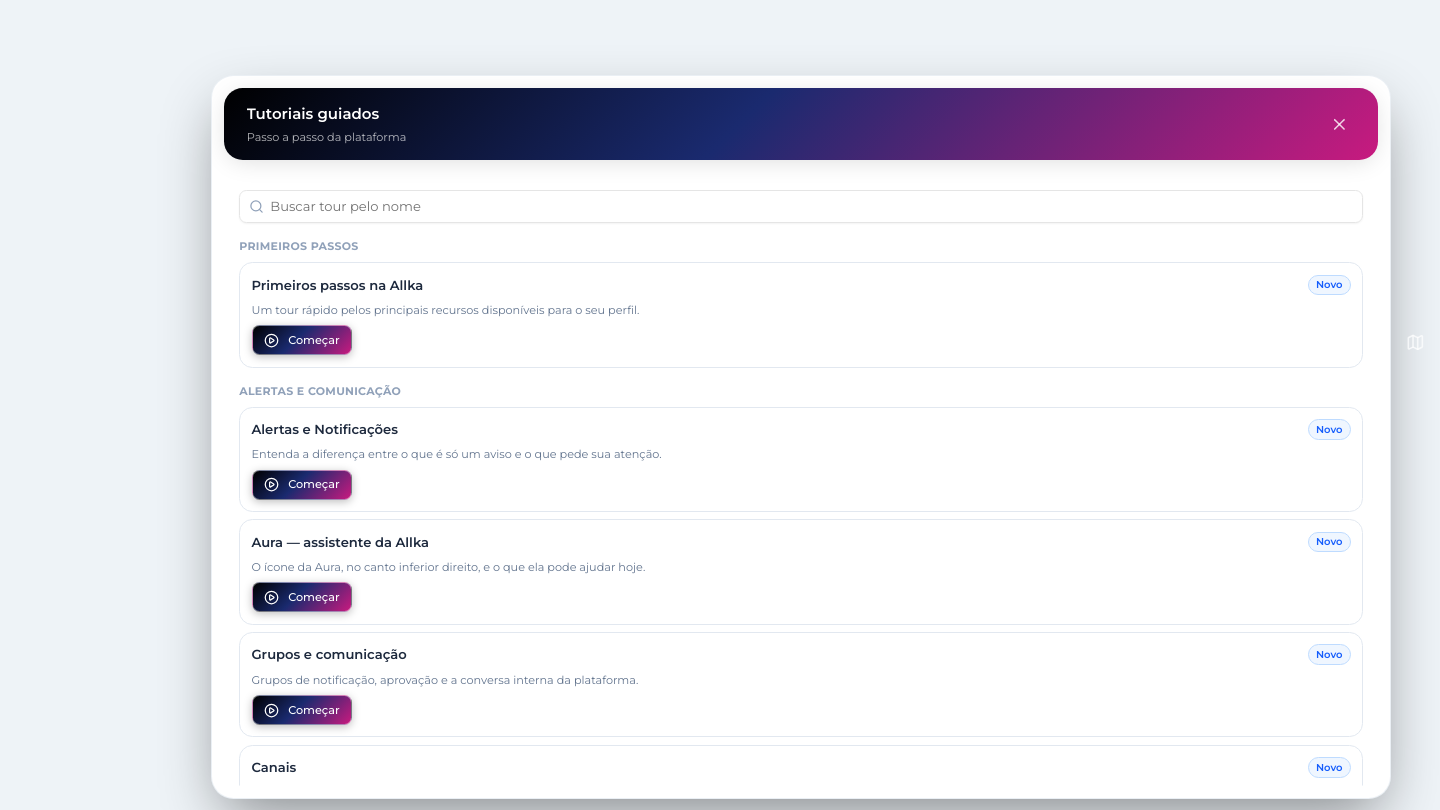
Test: HelpFloatingIcon — Tours da plataforma › busca pelo nome do tour filtra a lista
Earlier steps of the test are not shown.
Expected: the heading "Primeiros passos na Allka" is shown, [252,276,423,294]
Type "aditivos" into the field labelled "Buscar tour".
click(801, 206); type("aditivos")  # box [239,190,1363,223]
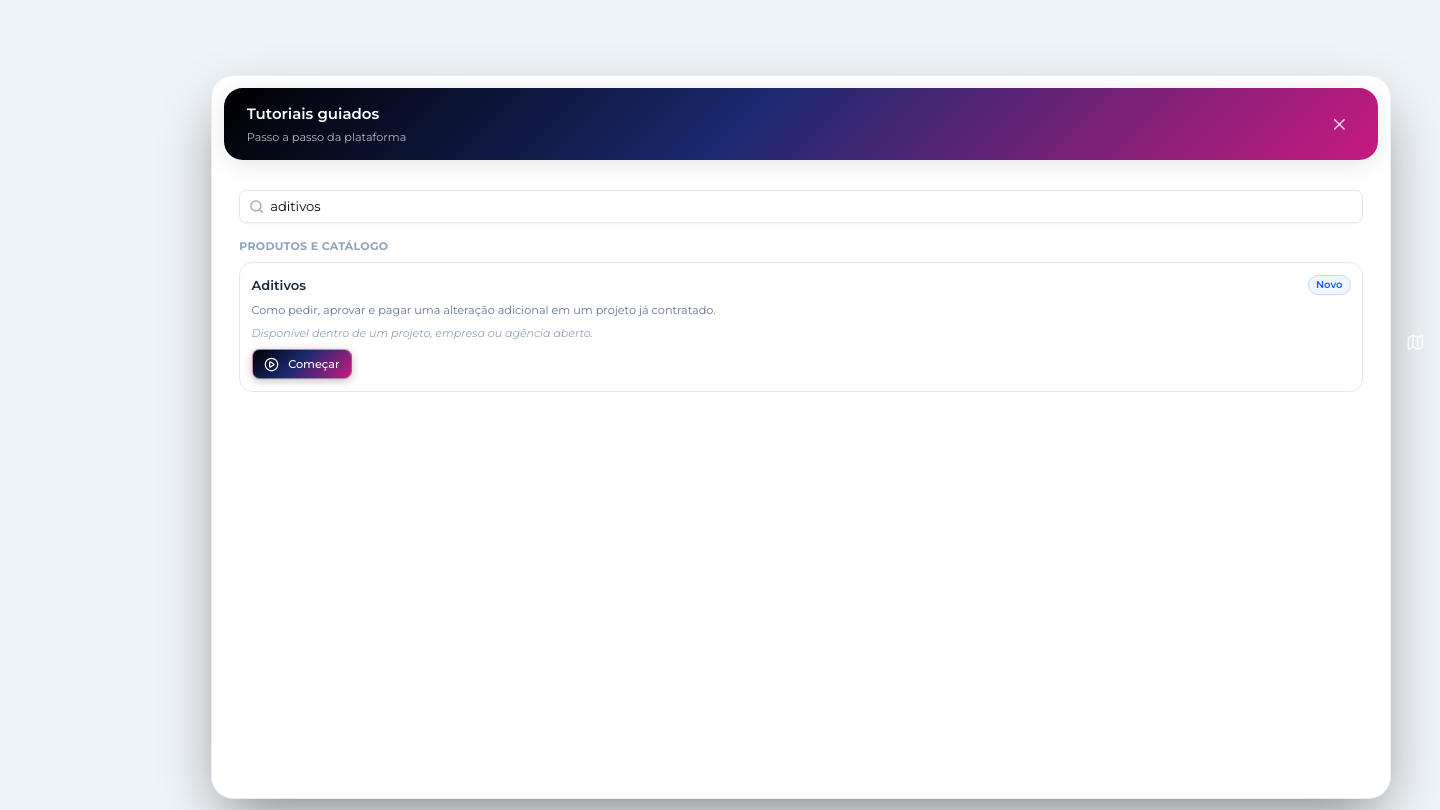
Result: the heading "Aditivos" is shown at [252,276,306,294]
Result: the heading "Primeiros passos na Allka" is gone
